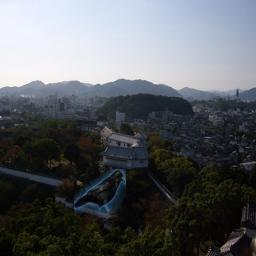Crow: (74, 169, 126, 218)
